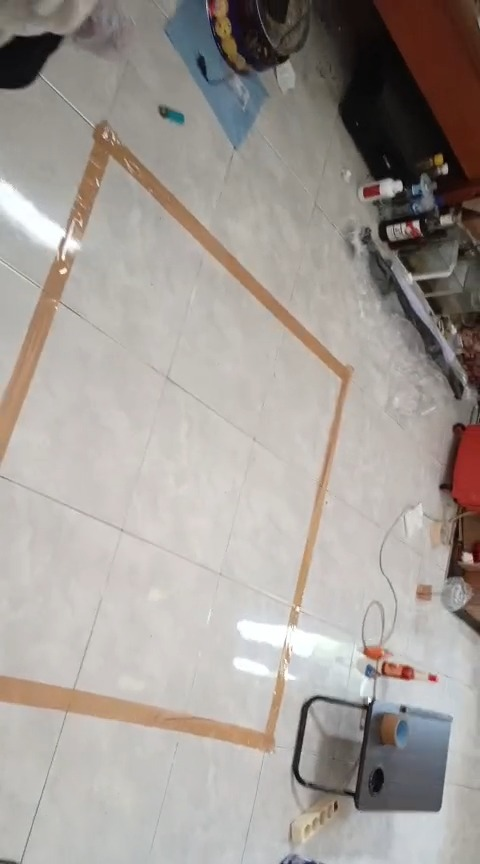floor marking: (0, 124, 352, 751)
